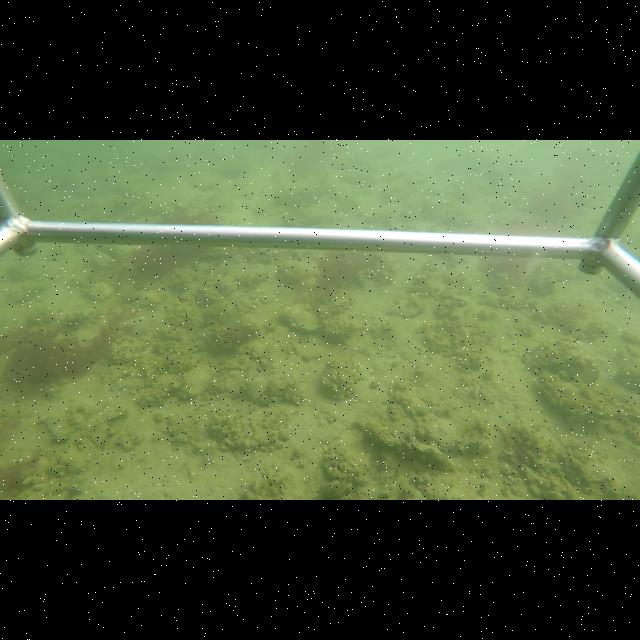Oyster-Closed: (531, 369, 616, 416), (176, 362, 222, 399), (279, 300, 319, 336), (222, 368, 249, 401), (242, 376, 270, 405)
